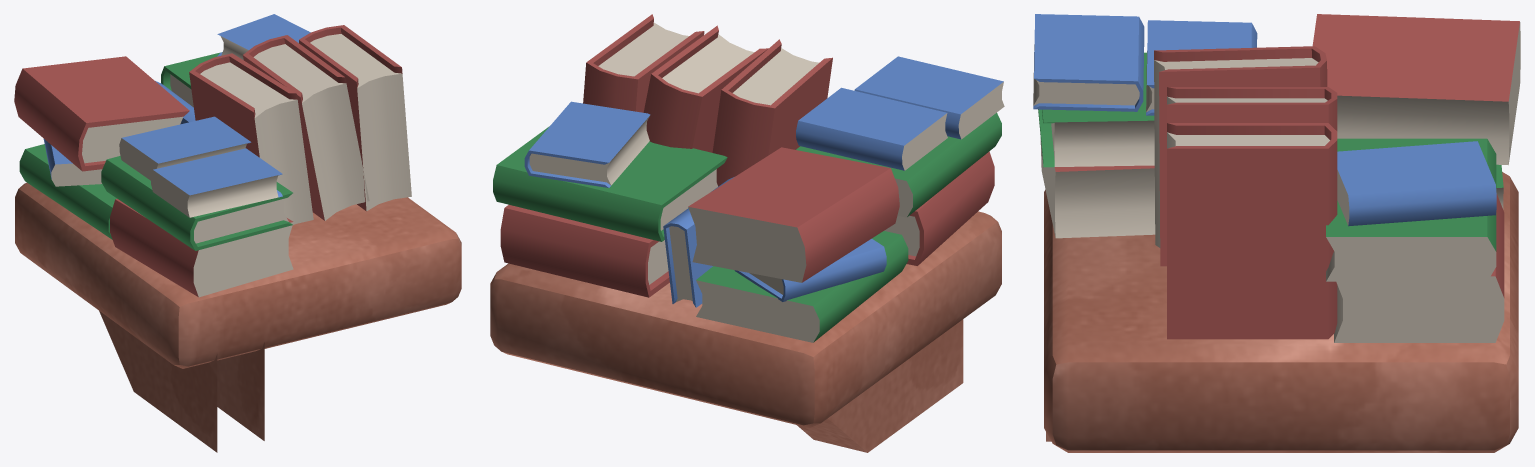
Rendered from SM_Book_Packed.fbx.
3 renders of one model, left to right at view 1: azimuth 30°, elevation 25°; view 2: azimuth 150°, elevation 25°; view 3: azimuth 270°, elevation 25°, orthographic. The views are drawn at different scales.
Parts seen in each view (by area): view 1: SM_Book_Packed; view 2: SM_Book_Packed; view 3: SM_Book_Packed.
Part boxes in pixels (bbox=[...]): SM_Book_Packed: bbox=[14, 14, 461, 452]; SM_Book_Packed: bbox=[490, 14, 1004, 452]; SM_Book_Packed: bbox=[1033, 14, 1520, 452].
Size of the model in its own units: 102 by 97.67 by 102.
1 material, 1 textured.
